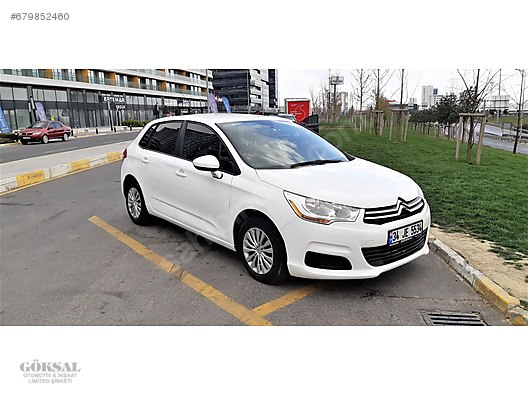citroen: (117, 108, 435, 287)
